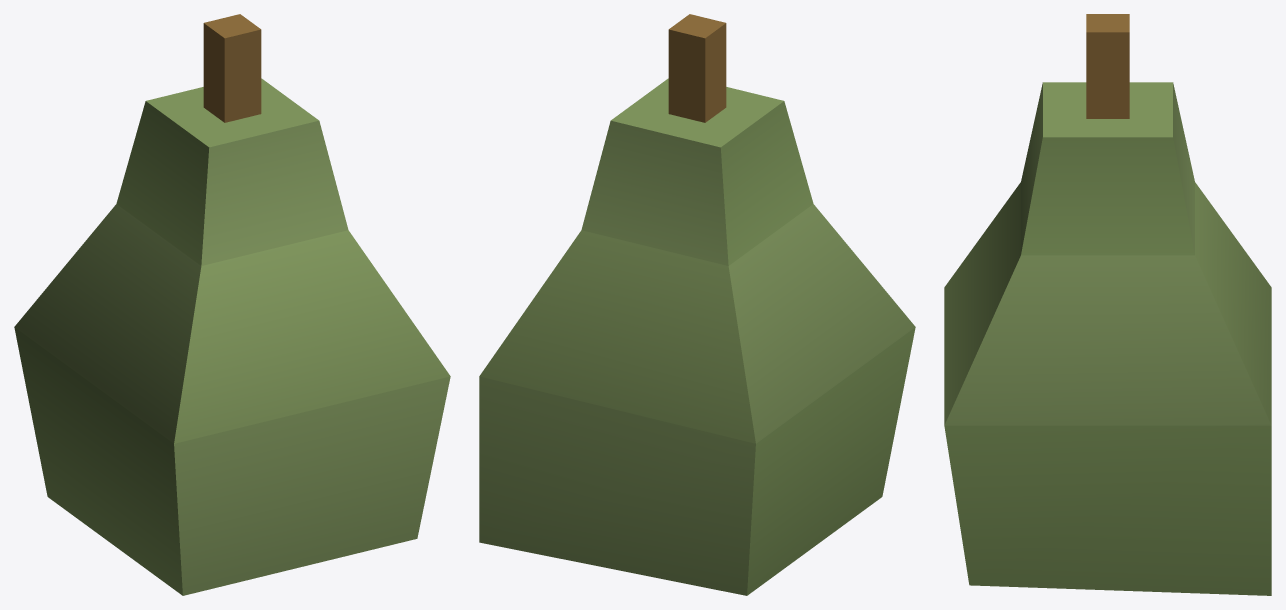
Rendered from SI_Food_Organic_Pear_02.fbx.
The picture shows the model from 3 angles, left to right: view 1: azimuth 30°, elevation 25°; view 2: azimuth 150°, elevation 25°; view 3: azimuth 270°, elevation 25°; orthographic projection. The views are drawn at different scales.
Visible parts, largest first — view 1: SI_Food_Organic_Pear_02; view 2: SI_Food_Organic_Pear_02; view 3: SI_Food_Organic_Pear_02.
Part boxes in pixels (x1,y1,x2,y2): SI_Food_Organic_Pear_02: (14, 14, 450, 595); SI_Food_Organic_Pear_02: (479, 14, 915, 595); SI_Food_Organic_Pear_02: (944, 14, 1271, 595).
Bounding box in the file's own units: 0.2747 × 0.4665 × 0.2747.
